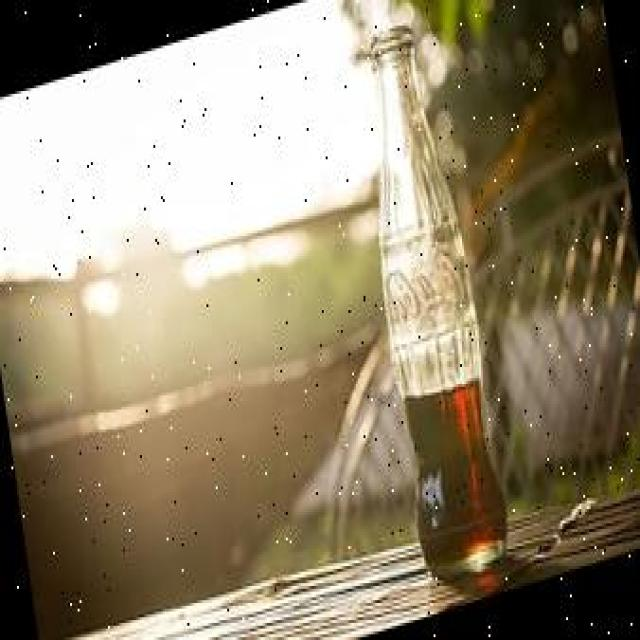coca-cola: (337, 3, 517, 586)
